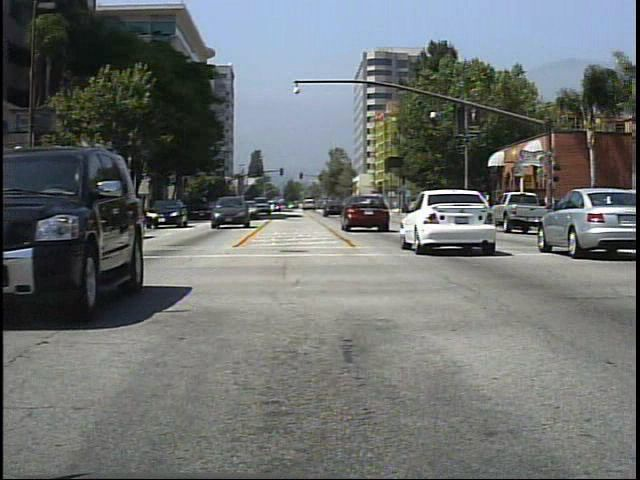person: (537, 192, 555, 228), (496, 189, 514, 224)
